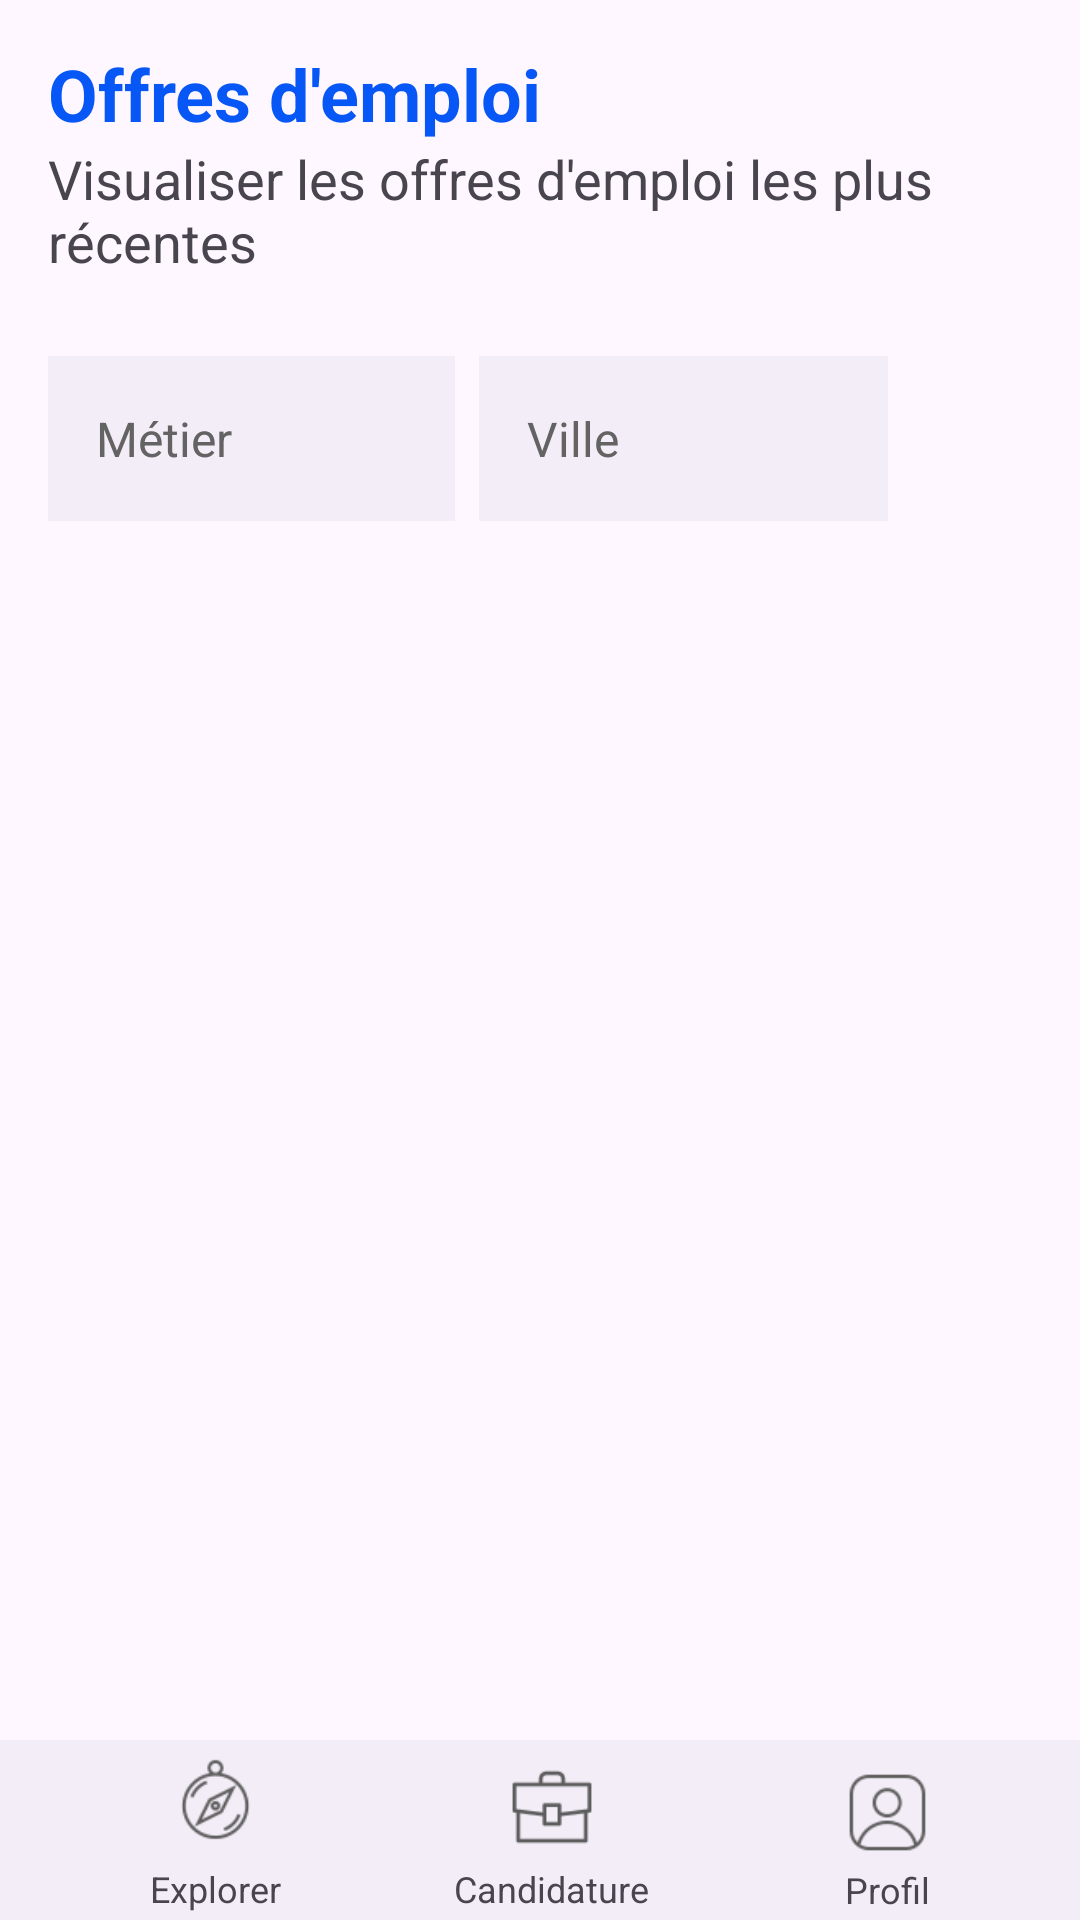

Where icons sit on this 1080w x 1920h app screen, as [x1, y1, x2, y2]:
compass: [182, 1760, 249, 1839]
user: [849, 1774, 926, 1851]
